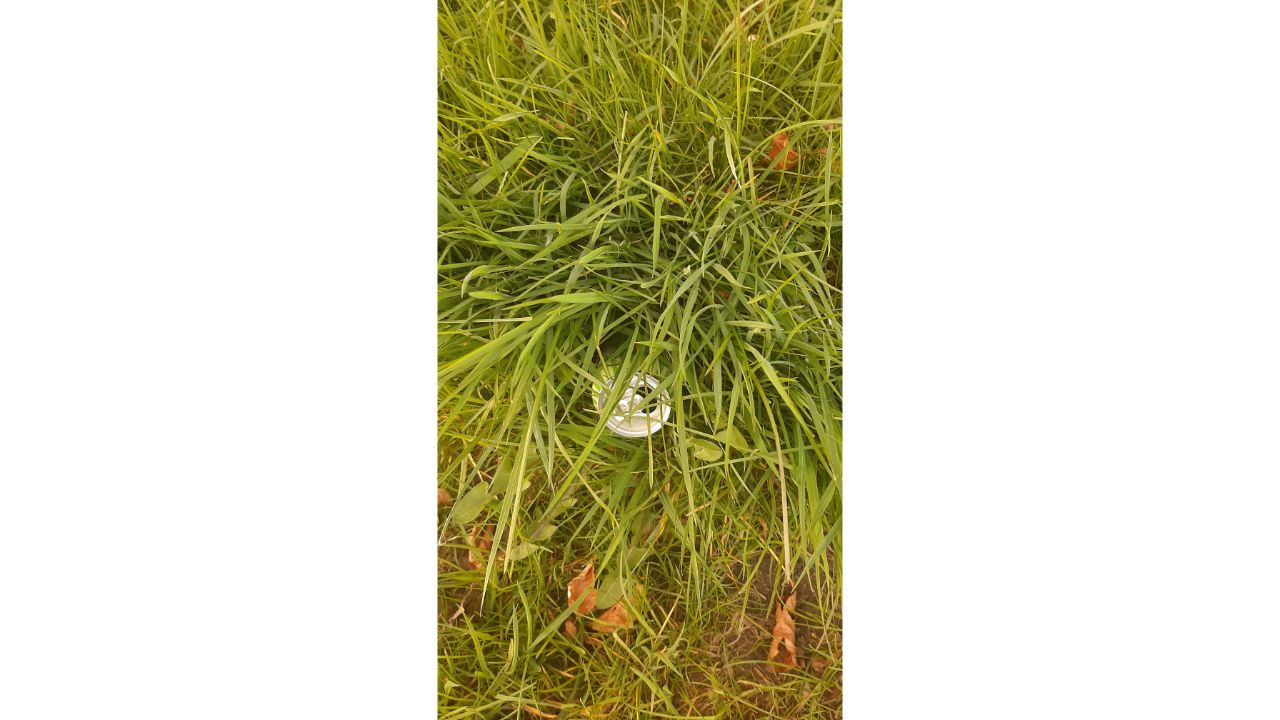Can: (581, 320, 703, 453)
